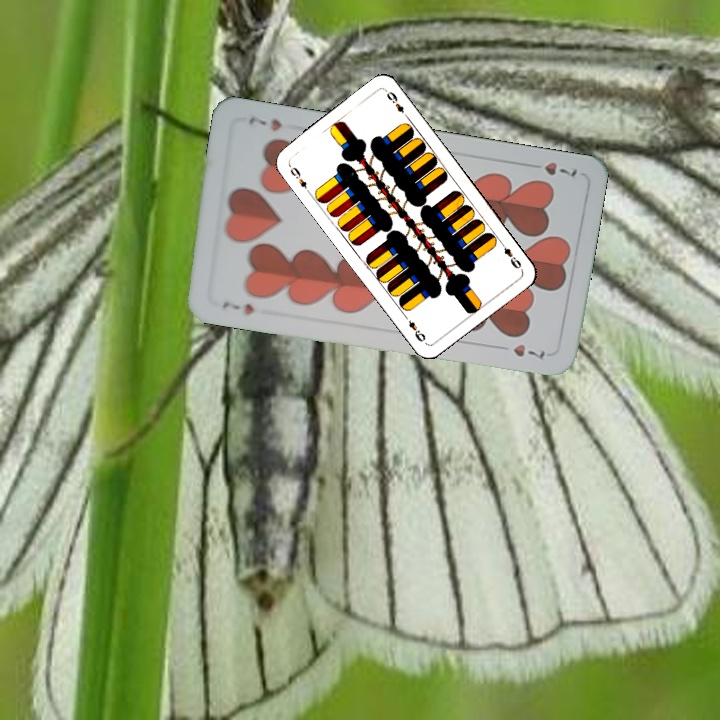E9: (495, 237, 524, 272), (285, 161, 313, 196)
H7: (540, 158, 580, 180), (218, 297, 257, 318)
